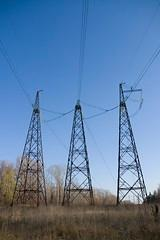power_tower: (111, 79, 148, 203), (11, 85, 48, 207), (63, 96, 93, 207)
